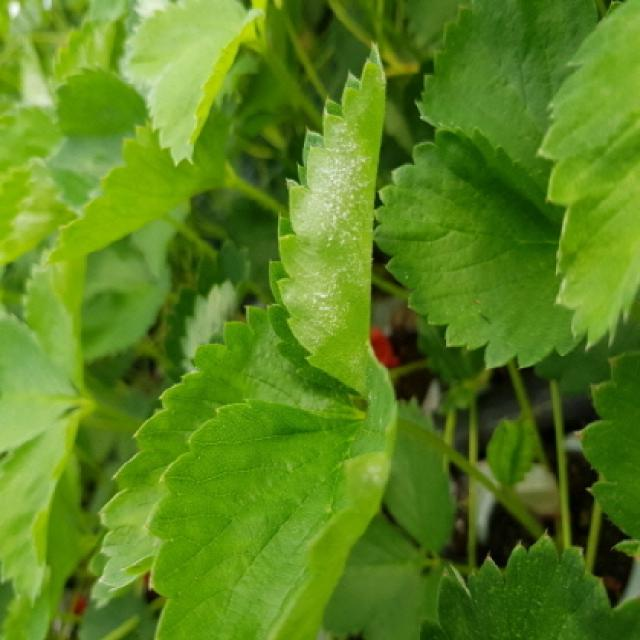Powdery Mildew Leaf: (265, 39, 387, 405)
